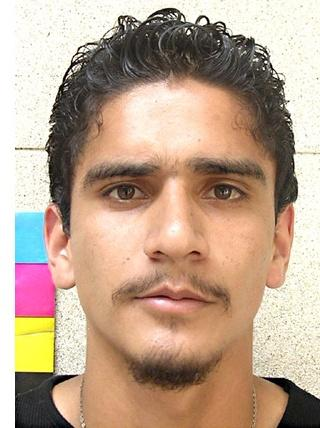No Mask: (39, 3, 313, 405)
